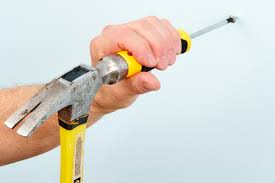Screwdriver: (80, 10, 254, 84)
